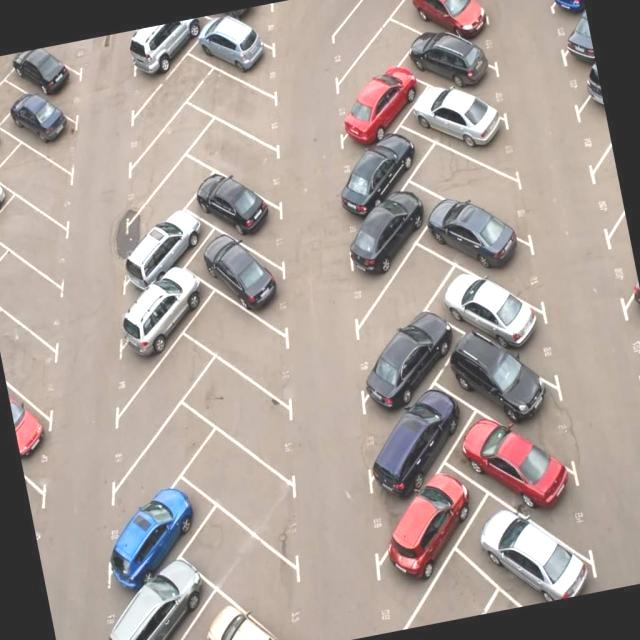car: (461, 398, 586, 524), (475, 494, 590, 612), (426, 174, 538, 294), (376, 452, 482, 578), (350, 304, 466, 417), (448, 320, 559, 428), (433, 245, 541, 349), (102, 261, 214, 361), (361, 384, 462, 494), (330, 123, 434, 226), (202, 225, 300, 334), (328, 182, 434, 282), (90, 558, 216, 640), (110, 478, 203, 586), (418, 68, 526, 160), (332, 62, 426, 152), (198, 164, 292, 254), (197, 4, 285, 90), (403, 28, 502, 104), (122, 209, 215, 287), (190, 586, 310, 640), (124, 18, 210, 86), (17, 41, 92, 118), (14, 91, 87, 170), (4, 363, 54, 474), (564, 44, 612, 151), (399, 0, 496, 52), (553, 0, 598, 84), (202, 2, 282, 42), (0, 117, 26, 187), (533, 0, 588, 28), (0, 170, 15, 244)
free: (185, 414, 303, 557), (338, 229, 462, 360), (100, 321, 220, 452), (186, 281, 296, 417), (107, 390, 222, 518), (196, 358, 302, 493), (416, 120, 532, 226), (187, 501, 304, 602), (369, 550, 492, 634), (194, 116, 296, 206), (120, 100, 218, 192), (191, 61, 293, 148), (115, 50, 212, 141), (117, 149, 207, 240), (324, 10, 418, 94), (0, 306, 64, 409), (0, 252, 64, 350), (1, 194, 68, 284), (11, 146, 81, 230), (586, 113, 628, 230), (328, 0, 408, 60), (598, 164, 636, 277), (30, 38, 100, 76), (0, 80, 26, 158), (0, 52, 32, 114)
